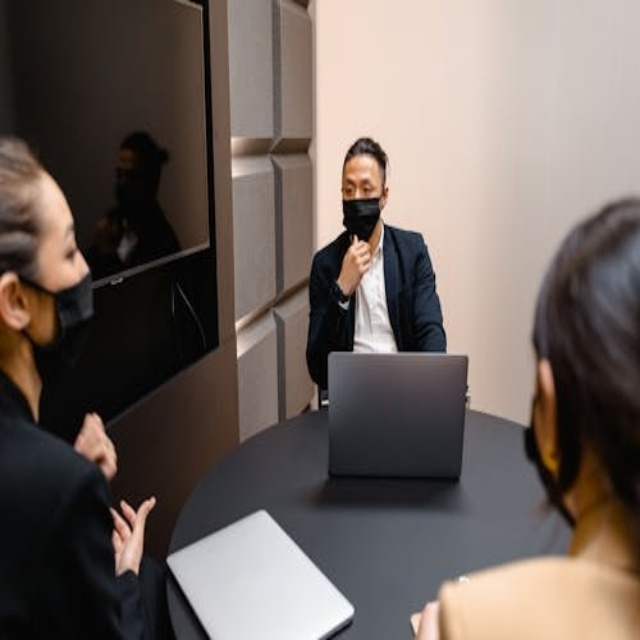Mascara: (20, 263, 95, 352), (523, 410, 571, 528), (342, 197, 381, 242), (115, 173, 143, 216)
Sin_gafas: (38, 217, 95, 267), (340, 169, 385, 198)
Sin_guantes: (109, 494, 155, 580), (334, 238, 372, 296)
